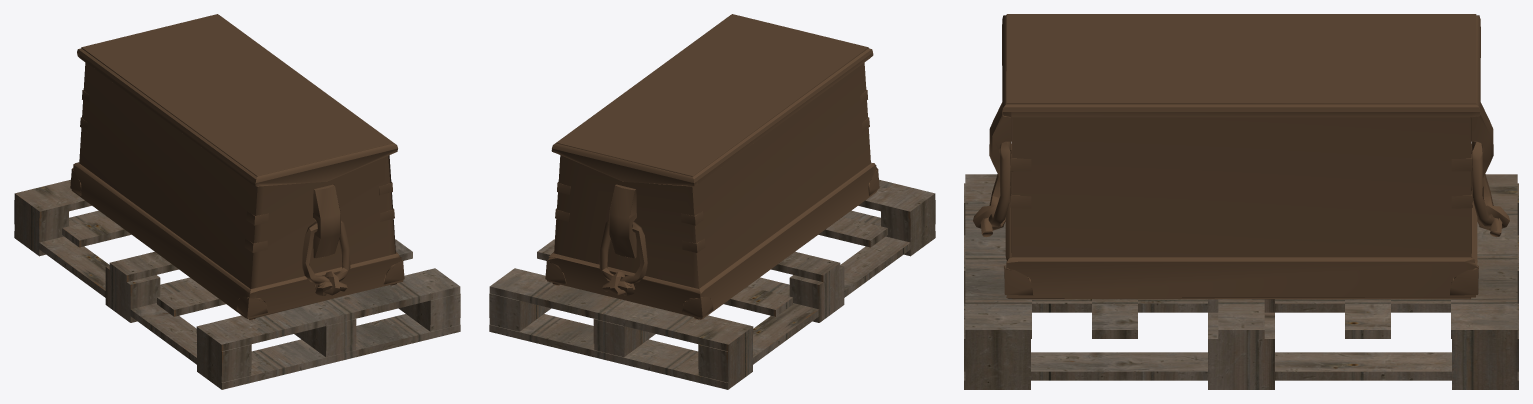
Rendered from pallet_crate.glb.
3 renders of one model, left to right at view 1: azimuth 30°, elevation 25°; view 2: azimuth 150°, elevation 25°; view 3: azimuth 270°, elevation 25°, orthographic. The views are drawn at different scales.
Visible parts, largest first — view 1: pallet_crate; view 2: pallet_crate; view 3: pallet_crate.
Part boxes in pixels (x1,y1,x2,y2): pallet_crate: (14,14,460,389); pallet_crate: (489,14,935,389); pallet_crate: (964,14,1518,389).
Bounding box in the file's own units: 0.8 × 0.6081 × 1.2.
2 materials, 2 textured.
